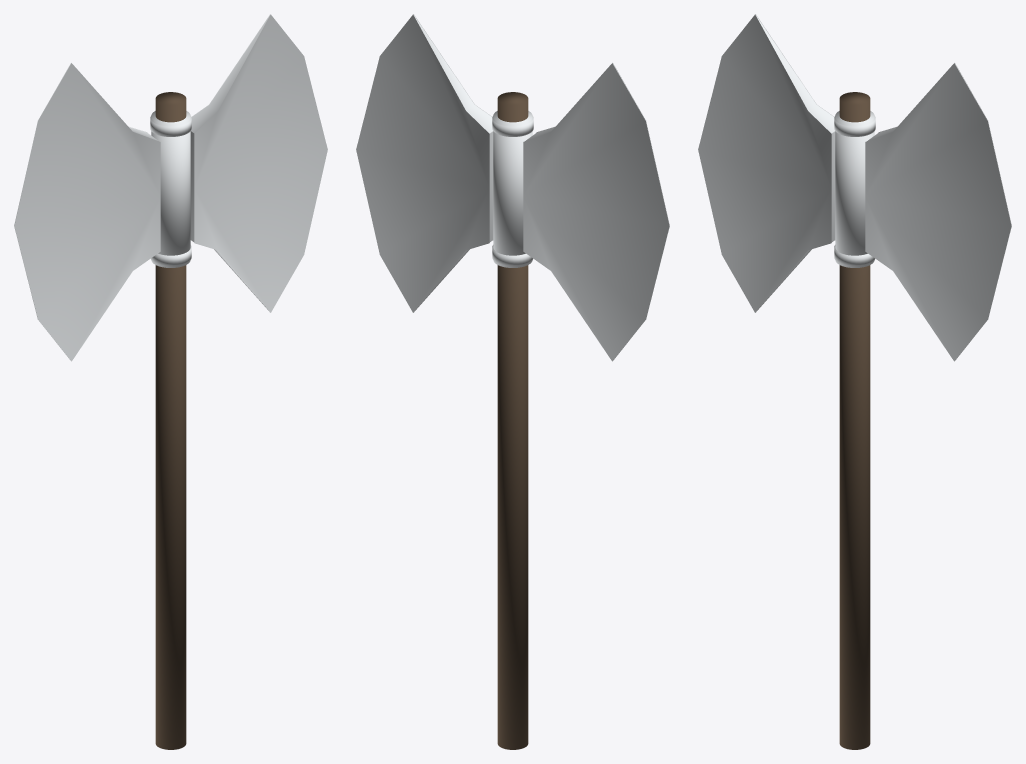
The model's file is AXE1.fbx.
3 views of the same model, side by side, from view 1: azimuth 30°, elevation 25°; view 2: azimuth 150°, elevation 25°; view 3: azimuth 330°, elevation 25° (orthographic).
Parts seen in each view (by area): view 1: Blade_Left, Blade_Right, Wooden_Shaft, Central_Socket; view 2: Blade_Left, Blade_Right, Wooden_Shaft, Central_Socket; view 3: Blade_Right, Blade_Left, Wooden_Shaft, Central_Socket.
Part boxes in pixels (<box>): Blade_Left: <box>14,63,160,361</box>; Blade_Right: <box>190,14,327,312</box>; Wooden_Shaft: <box>155,92,186,749</box>; Central_Socket: <box>151,111,190,267</box>; Blade_Left: <box>523,63,669,361</box>; Blade_Right: <box>356,14,493,312</box>; Wooden_Shaft: <box>497,92,528,749</box>; Central_Socket: <box>493,111,532,267</box>; Blade_Right: <box>865,63,1011,361</box>; Blade_Left: <box>698,14,835,312</box>; Wooden_Shaft: <box>839,92,870,749</box>; Central_Socket: <box>835,111,874,267</box>.
Bounding box in the file's own units: 331 × 711 × 38.
